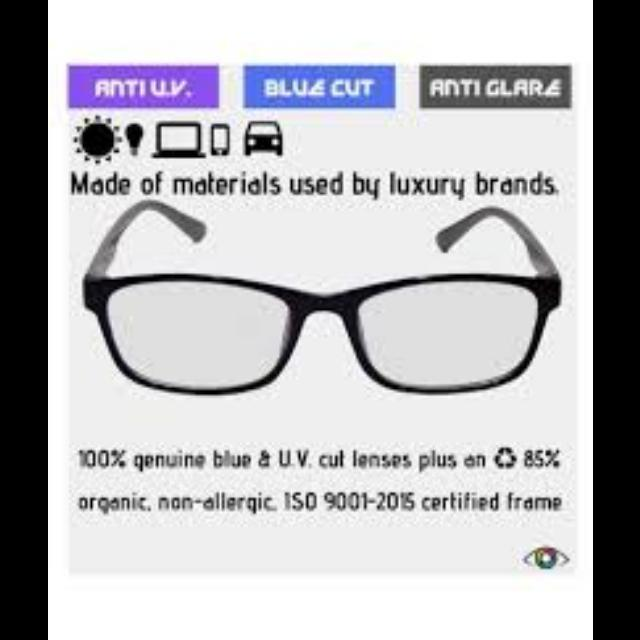glasses: (50, 198, 588, 404)
